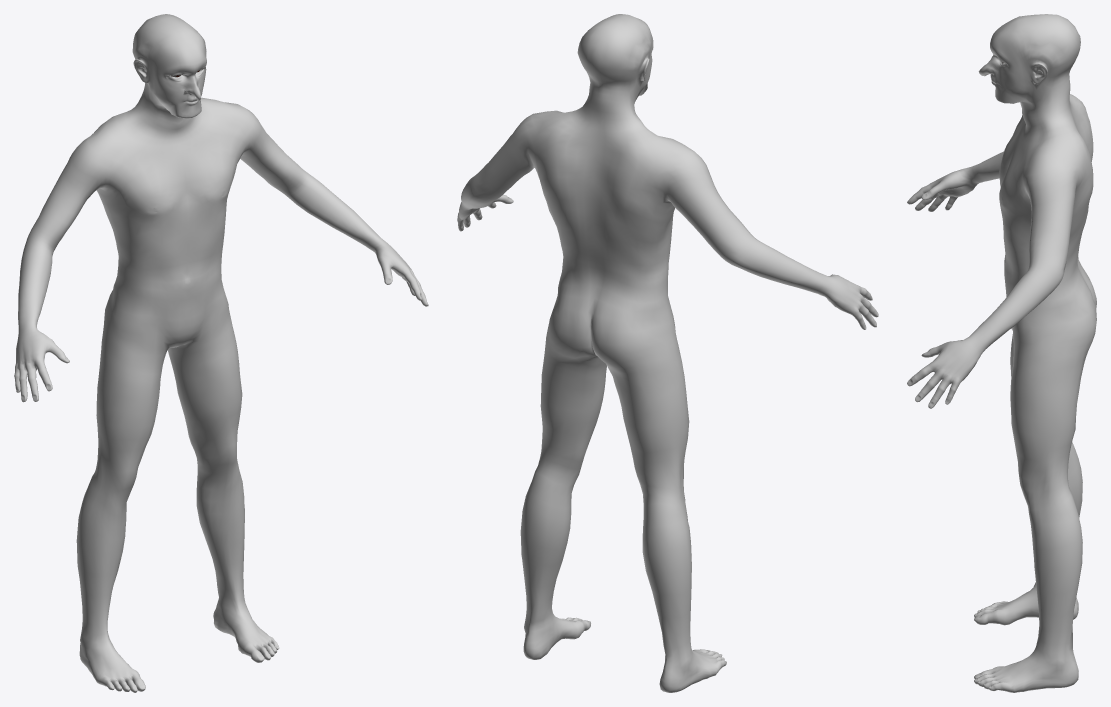
Rendered from head_base_v1_clay.glb.
3 renders of one model, left to right at view 1: azimuth 30°, elevation 25°; view 2: azimuth 150°, elevation 25°; view 3: azimuth 270°, elevation 25°, orthographic.
Visible parts, largest first — view 1: body; view 2: body; view 3: body.
Boxes of the visible parts, left/top/right/bottom form: body: left=14, top=14, right=428, bottom=692; body: left=457, top=14, right=878, bottom=692; body: left=907, top=14, right=1096, bottom=692.
Bounding box in the file's own units: 1.11 × 1.66 × 0.4497.
Materials: 3 (2 with a texture image).
